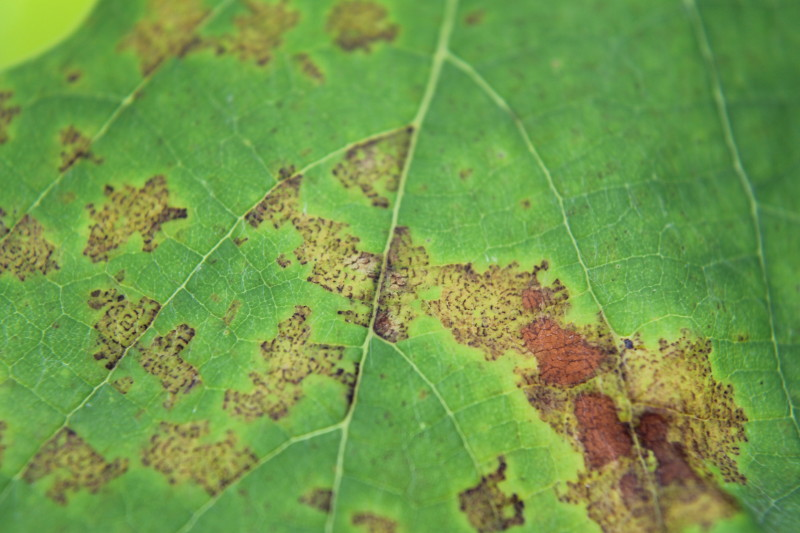downy: (422, 262, 693, 533), (253, 119, 420, 286), (74, 288, 204, 418), (221, 304, 343, 426), (34, 424, 135, 525), (88, 172, 182, 266), (153, 412, 245, 504), (1, 205, 78, 282), (209, 2, 284, 77), (128, 2, 198, 72), (332, 3, 393, 64), (699, 442, 759, 502), (50, 113, 106, 169), (700, 383, 749, 432), (1, 95, 32, 127), (57, 65, 84, 92)
